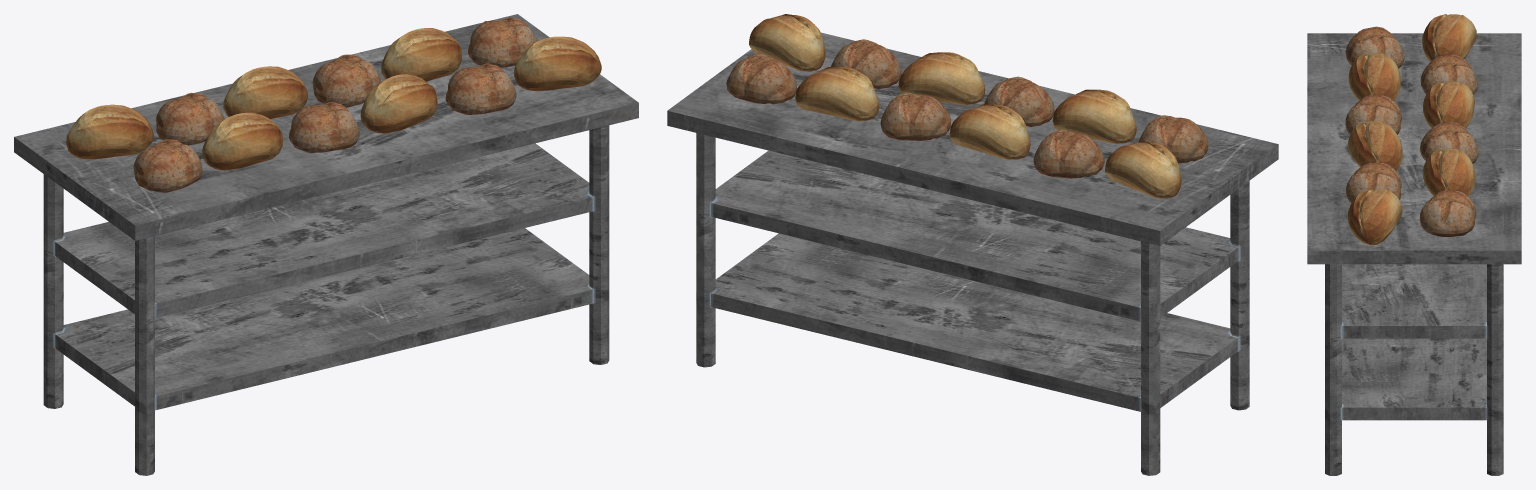
The model's file is prep_table.glb.
3 renders of one model, left to right at view 1: azimuth 30°, elevation 25°; view 2: azimuth 150°, elevation 25°; view 3: azimuth 270°, elevation 25°, orthographic. The views are drawn at different scales.
Parts seen in each view (by area): view 1: steel_table_0_n0, bread_loaf_0_n12, bread_loaf_0_n1, bread_loaf_0_n4, bread_loaf_0_n8, bread_loaf_0_n5, bread_loaf_0_n9, boule_0_n10, boule_0_n6, boule_0_n2, boule_0_n7, boule_0_n3 (+1 smaller); view 2: steel_table_0_n0, bread_loaf_0_n9, bread_loaf_0_n8, bread_loaf_0_n4, bread_loaf_0_n5, bread_loaf_0_n1, bread_loaf_0_n12, boule_0_n3, boule_0_n7, boule_0_n11, boule_0_n2, boule_0_n6 (+1 smaller); view 3: steel_table_0_n0, bread_loaf_0_n12, boule_0_n11, bread_loaf_0_n8, bread_loaf_0_n4, bread_loaf_0_n1, bread_loaf_0_n9, bread_loaf_0_n5, boule_0_n2, boule_0_n7, boule_0_n6, boule_0_n3 (+1 smaller).
Boxes of the visible parts, x1=… form: steel_table_0_n0: x1=14, y1=14, x2=638, y2=475; bread_loaf_0_n12: x1=514, y1=36, x2=601, y2=91; bread_loaf_0_n1: x1=66, y1=104, x2=153, y2=159; bread_loaf_0_n4: x1=202, y1=112, x2=282, y2=170; bread_loaf_0_n8: x1=360, y1=74, x2=437, y2=133; bread_loaf_0_n5: x1=223, y1=66, x2=307, y2=118; bread_loaf_0_n9: x1=381, y1=28, x2=461, y2=81; boule_0_n10: x1=445, y1=63, x2=516, y2=114; boule_0_n6: x1=289, y1=102, x2=359, y2=152; boule_0_n2: x1=133, y1=139, x2=202, y2=192; boule_0_n7: x1=312, y1=54, x2=381, y2=107; boule_0_n3: x1=156, y1=92, x2=224, y2=145; steel_table_0_n0: x1=667, y1=32, x2=1278, y2=475; bread_loaf_0_n9: x1=795, y1=67, x2=879, y2=121; bread_loaf_0_n8: x1=898, y1=52, x2=985, y2=104; bread_loaf_0_n4: x1=1052, y1=89, x2=1136, y2=143; bread_loaf_0_n5: x1=949, y1=104, x2=1030, y2=159; bread_loaf_0_n1: x1=1105, y1=141, x2=1181, y2=198; bread_loaf_0_n12: x1=749, y1=14, x2=825, y2=71; boule_0_n3: x1=1033, y1=129, x2=1104, y2=178; boule_0_n7: x1=880, y1=92, x2=950, y2=140; boule_0_n11: x1=726, y1=54, x2=797, y2=104; boule_0_n2: x1=1138, y1=115, x2=1208, y2=163; boule_0_n6: x1=984, y1=76, x2=1054, y2=126; steel_table_0_n0: x1=1307, y1=33, x2=1521, y2=475; bread_loaf_0_n12: x1=1348, y1=189, x2=1402, y2=245; boule_0_n11: x1=1419, y1=190, x2=1476, y2=236; bread_loaf_0_n8: x1=1347, y1=120, x2=1402, y2=171; bread_loaf_0_n4: x1=1348, y1=53, x2=1400, y2=100; bread_loaf_0_n1: x1=1422, y1=14, x2=1476, y2=61; bread_loaf_0_n9: x1=1422, y1=148, x2=1474, y2=196; bread_loaf_0_n5: x1=1423, y1=81, x2=1474, y2=128; boule_0_n2: x1=1345, y1=26, x2=1404, y2=68; boule_0_n7: x1=1420, y1=122, x2=1478, y2=163; boule_0_n6: x1=1345, y1=95, x2=1401, y2=134; boule_0_n3: x1=1420, y1=54, x2=1477, y2=94.
Size of the model in its own units: 1.8 by 1.05 by 0.75.
Materials: 3 (3 with a texture image).
